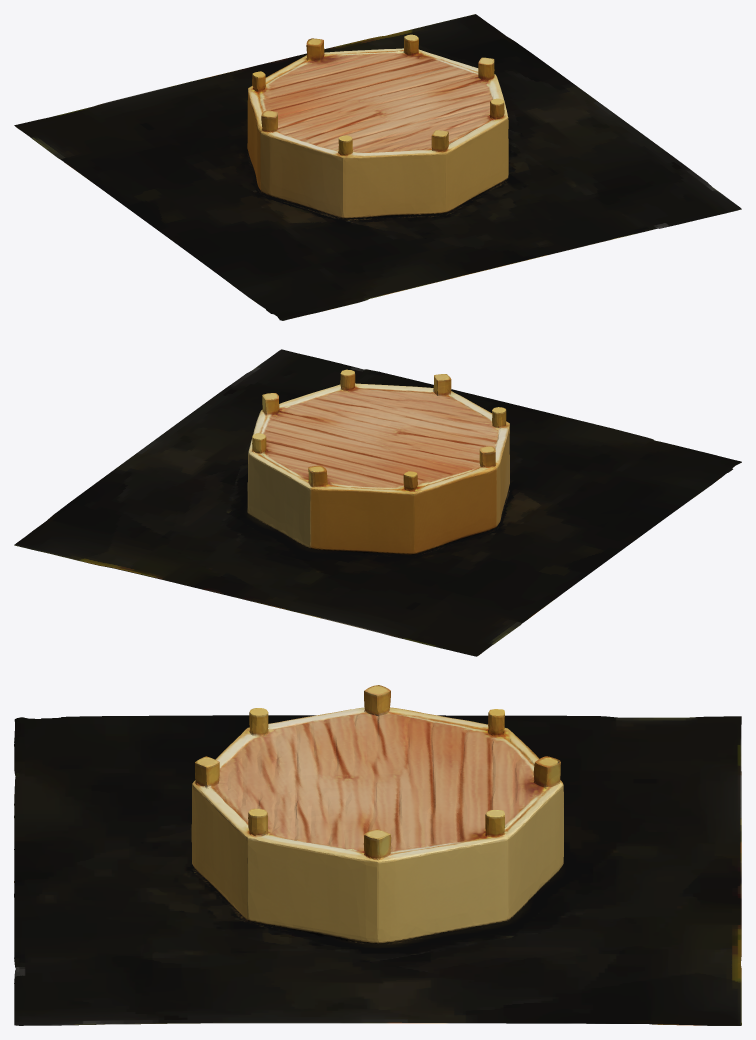
Rendered from cais.glb.
The picture shows the model from 3 angles, top to bottom: view 1: azimuth 30°, elevation 25°; view 2: azimuth 150°, elevation 25°; view 3: azimuth 270°, elevation 25°; orthographic projection. The views are drawn at different scales.
Parts seen in each view (by area): view 1: world; view 2: world; view 3: world.
Part boxes in pixels (x1,y1,x2,y2): world: (14, 14, 741, 320); world: (14, 349, 741, 656); world: (14, 685, 741, 1025).
Size of the model in its own units: 1 by 0.1693 by 1.
Materials: 1 (1 with a texture image).
